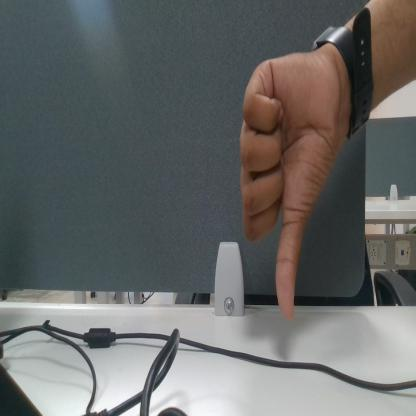Thumbs Down: (237, 42, 328, 326)
